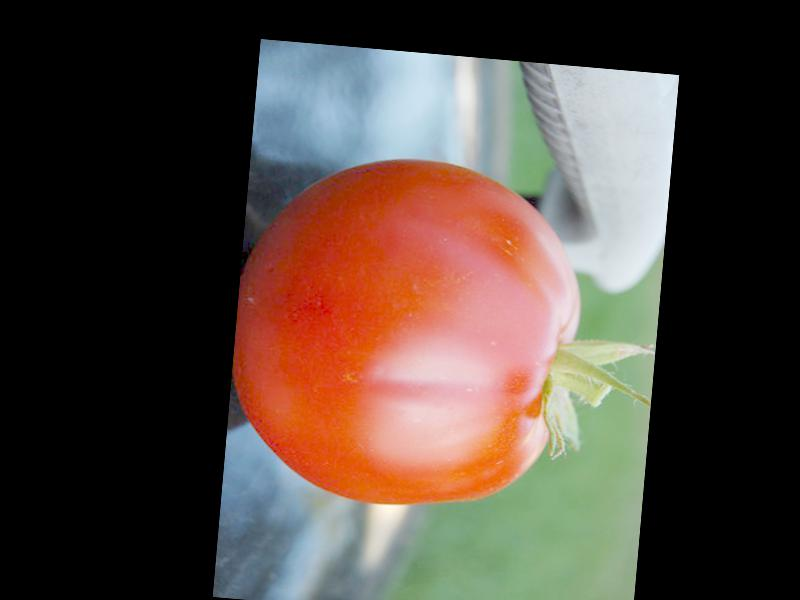Tomato: (221, 144, 591, 520)
